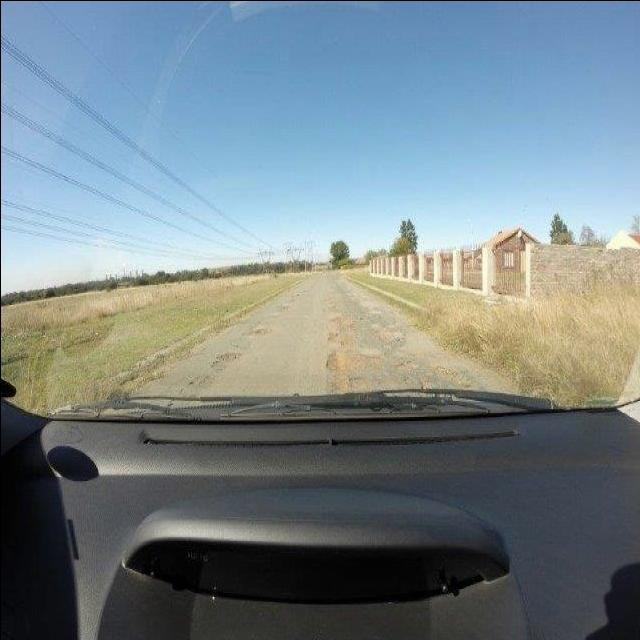lubang: (323, 342, 359, 380), (430, 358, 473, 386), (323, 314, 363, 340), (372, 326, 408, 346), (210, 348, 240, 370), (326, 372, 364, 389), (393, 353, 421, 374), (410, 368, 432, 388), (248, 320, 272, 338), (185, 372, 213, 387), (361, 350, 384, 368), (276, 301, 290, 313), (292, 288, 302, 300)
